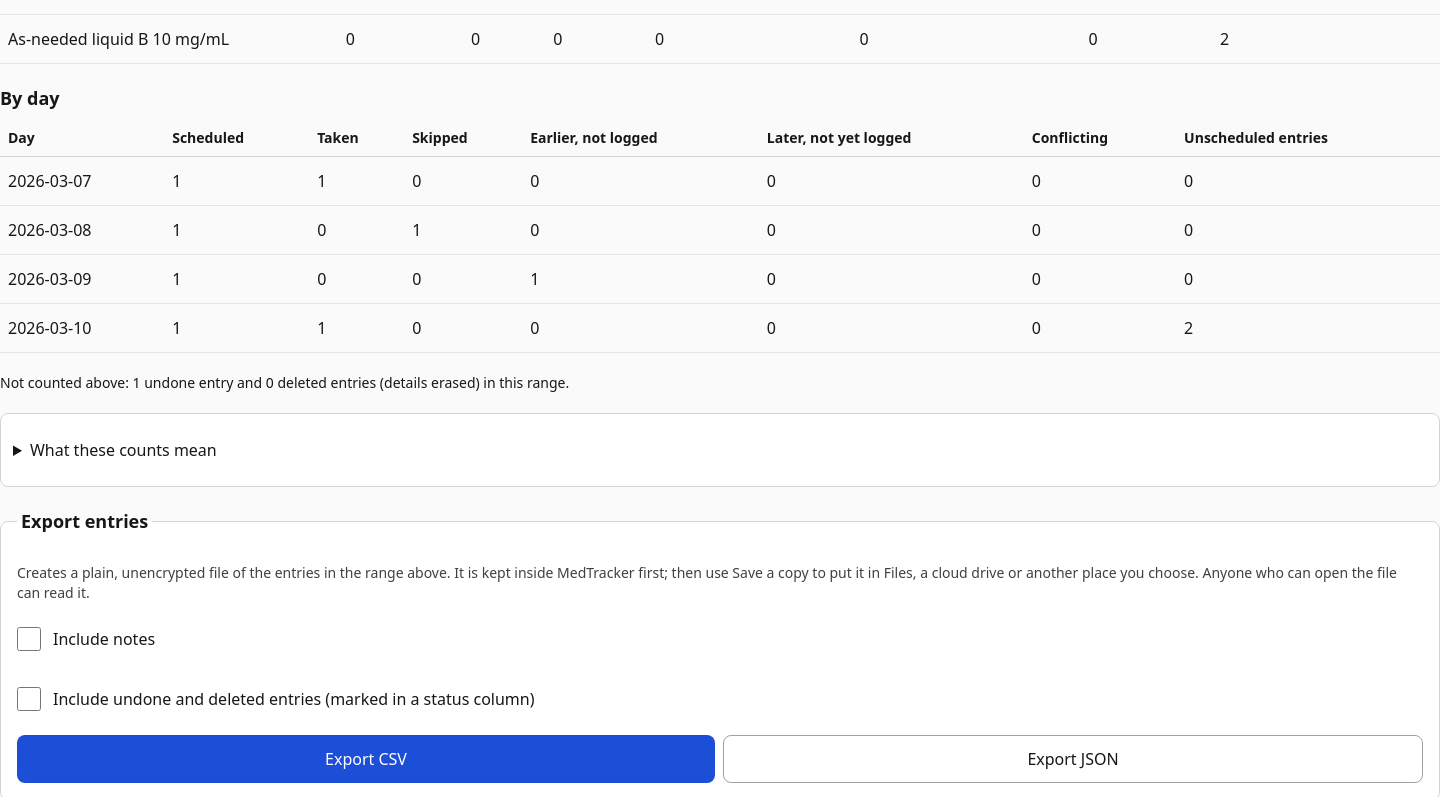
Test: Reports › exports with notes off by default, and sends the choices when ticked
The width and height of the screenshot is (1440, 797).
(page scrolled)
Check: the table "By day" is shown, box left=0, top=84, right=1439, bottom=353
Check: the checkbox labelled "Include notes" is not checked, box left=17, top=627, right=41, bottom=651
Click the button "Export CSV" at (366, 759), box left=17, top=735, right=715, bottom=783
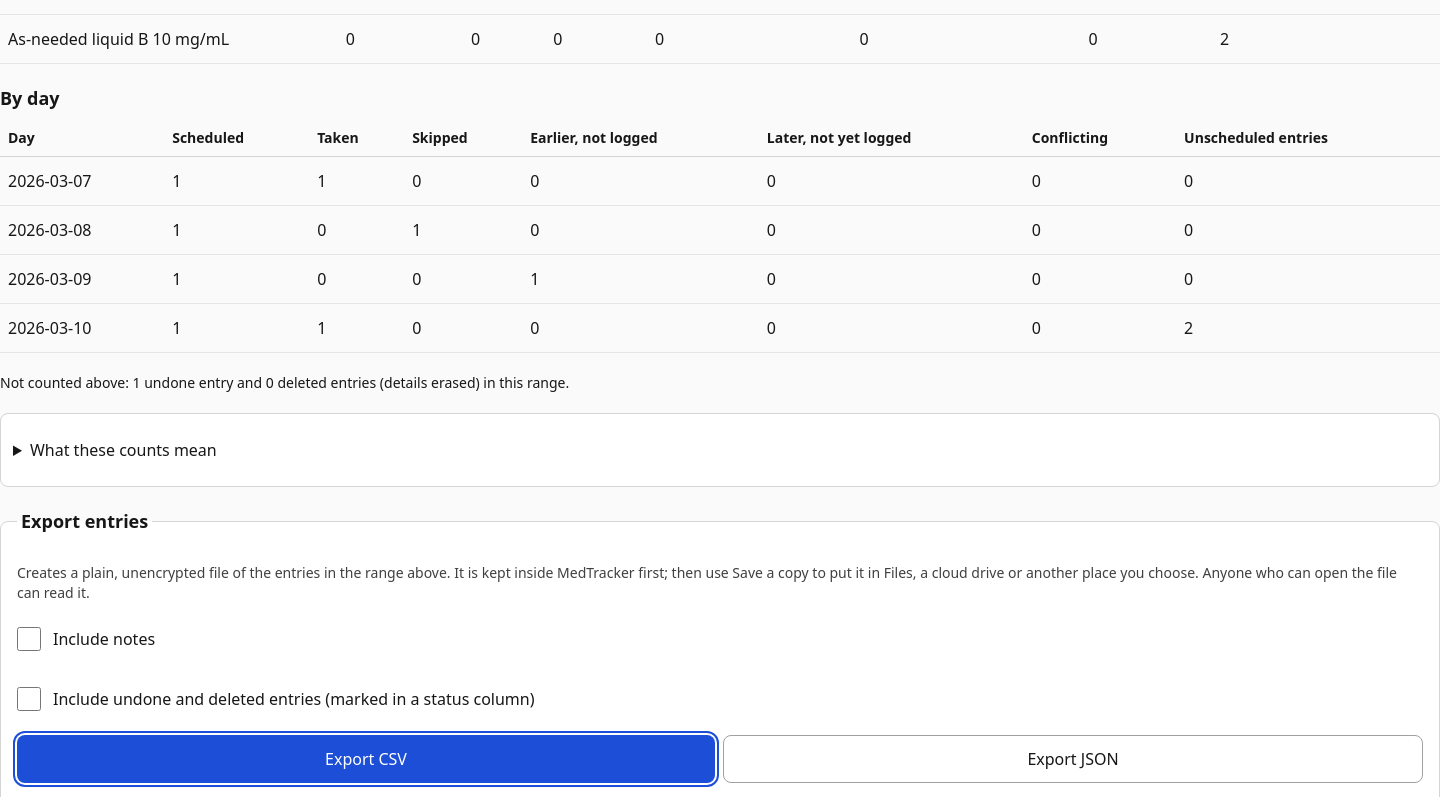
Click the checkbox labelled "Include notes" at (29, 639), box left=17, top=627, right=41, bottom=651
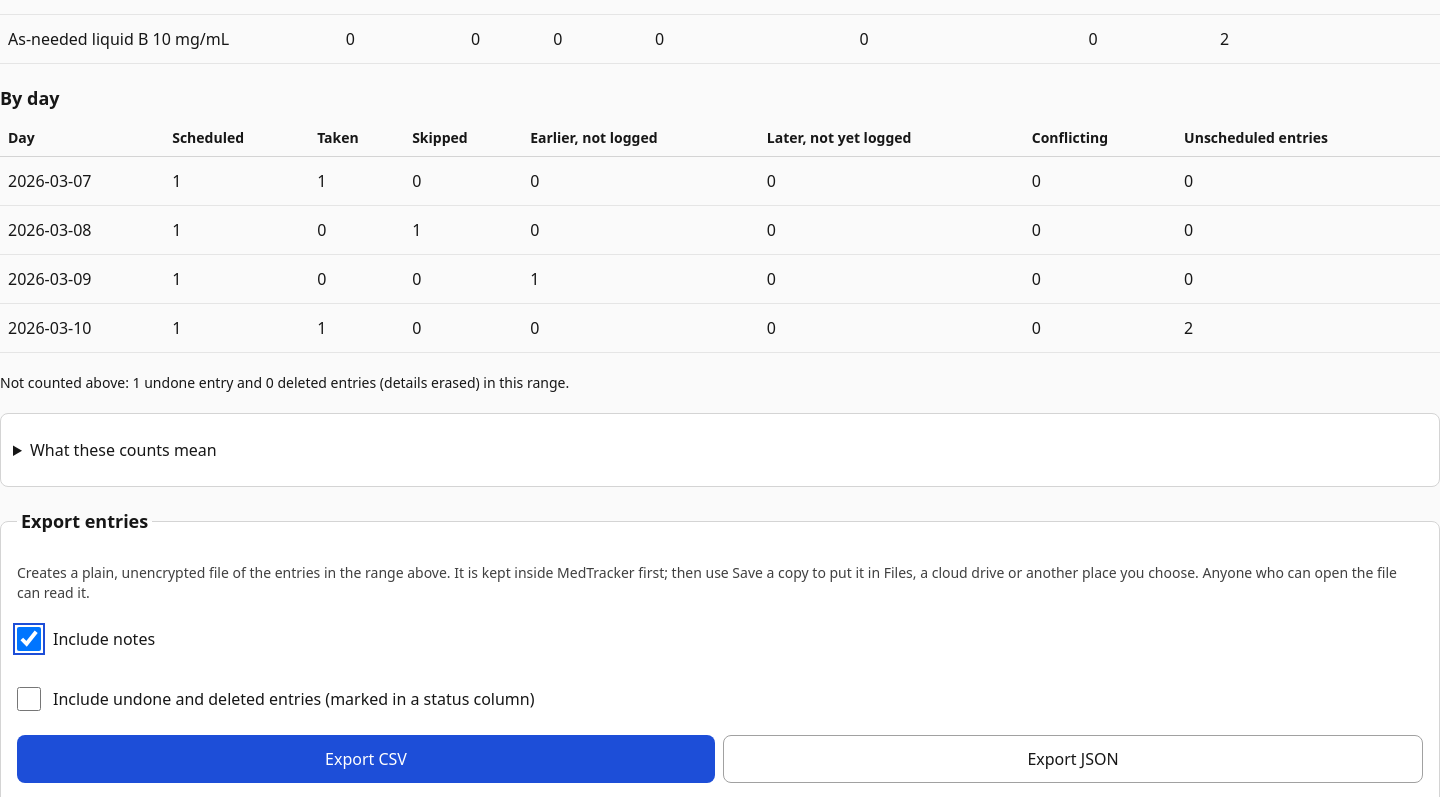
Click the button "Export JSON" at (1073, 759), box left=723, top=735, right=1423, bottom=783
(page scrolled)
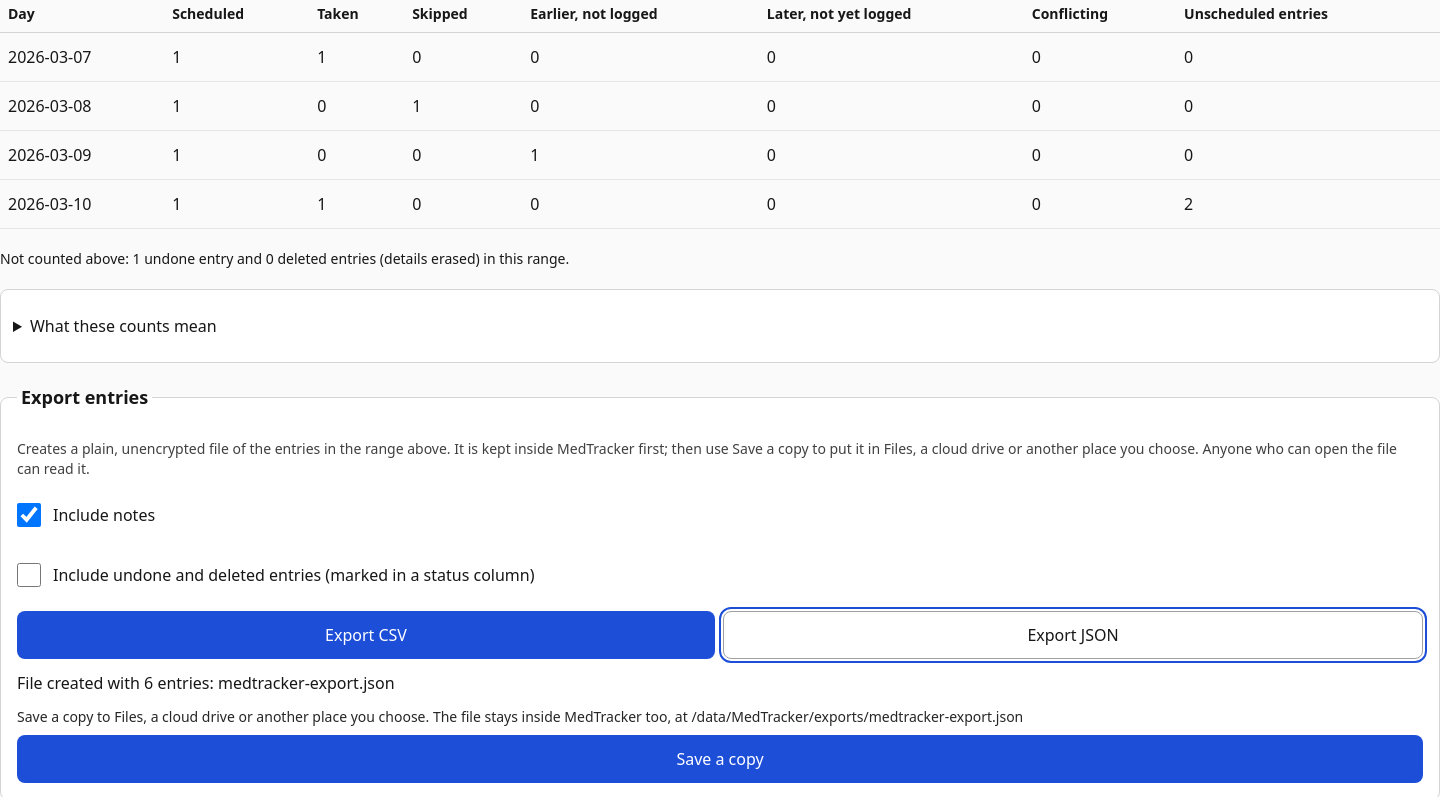
Check: the message reads "File created with 6 entries: medtracker-export.json", box left=17, top=672, right=394, bottom=694
